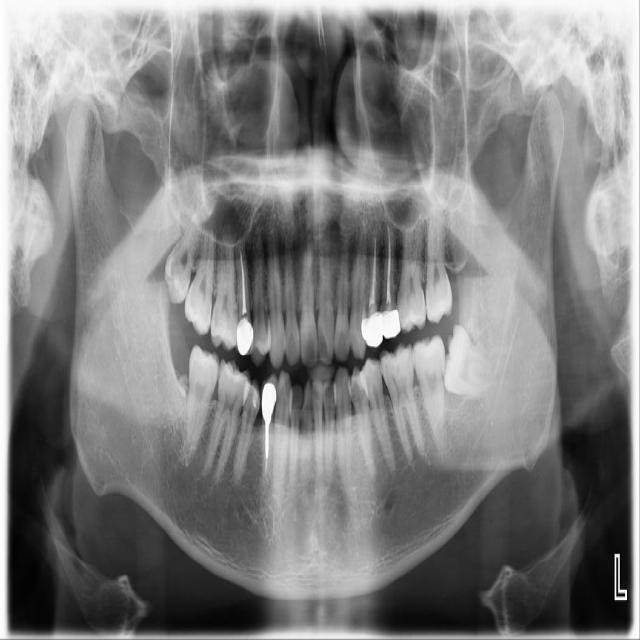3M ESPE Implant: (157, 210, 205, 307)
52: (257, 372, 280, 424), (377, 301, 402, 340), (361, 305, 383, 348), (235, 316, 254, 355)
73: (362, 221, 387, 310), (380, 214, 400, 305), (235, 240, 251, 317), (256, 421, 273, 492), (578, 516, 582, 530)
BioLife Implant: (424, 204, 453, 324)
Biomet 3i Implant: (437, 322, 502, 400)
Blue Sky Bio Implant: (410, 334, 449, 452)
Caries: (182, 228, 218, 336)
Implant: (183, 343, 221, 467)
